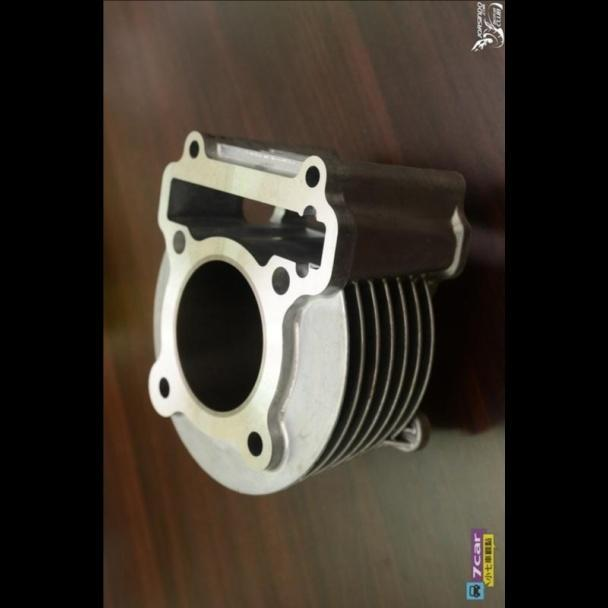hole: (266, 264, 293, 297), (243, 428, 266, 459), (170, 227, 187, 256), (155, 373, 172, 399)
